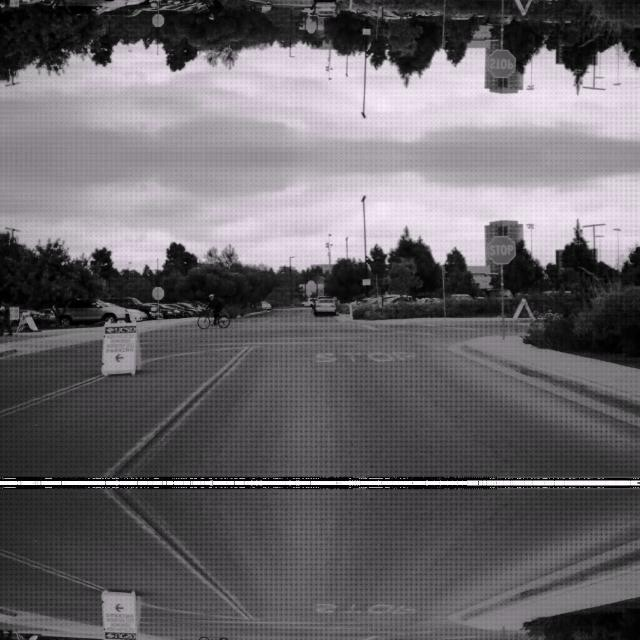stop: (486, 234, 516, 262), (486, 50, 516, 78)
